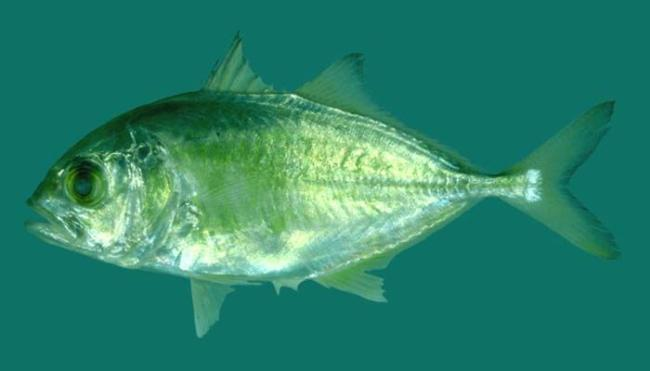fish: (24, 29, 625, 338)
